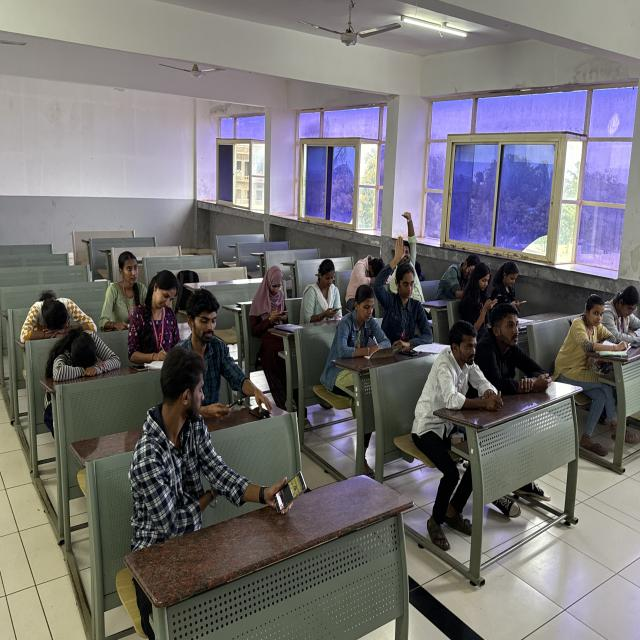Hand Rising: (381, 234, 422, 328), (397, 207, 424, 266)
Sleeping: (44, 327, 128, 394), (18, 290, 101, 350)
Using Phone: (138, 348, 312, 530), (245, 264, 301, 362), (305, 252, 346, 327), (460, 260, 502, 322), (494, 259, 529, 319)
